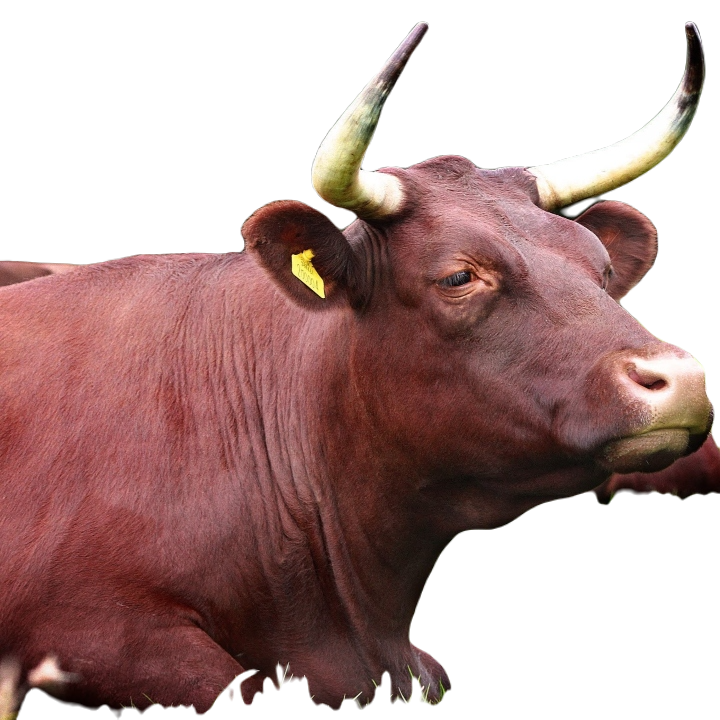Cow: (1, 19, 719, 717)
